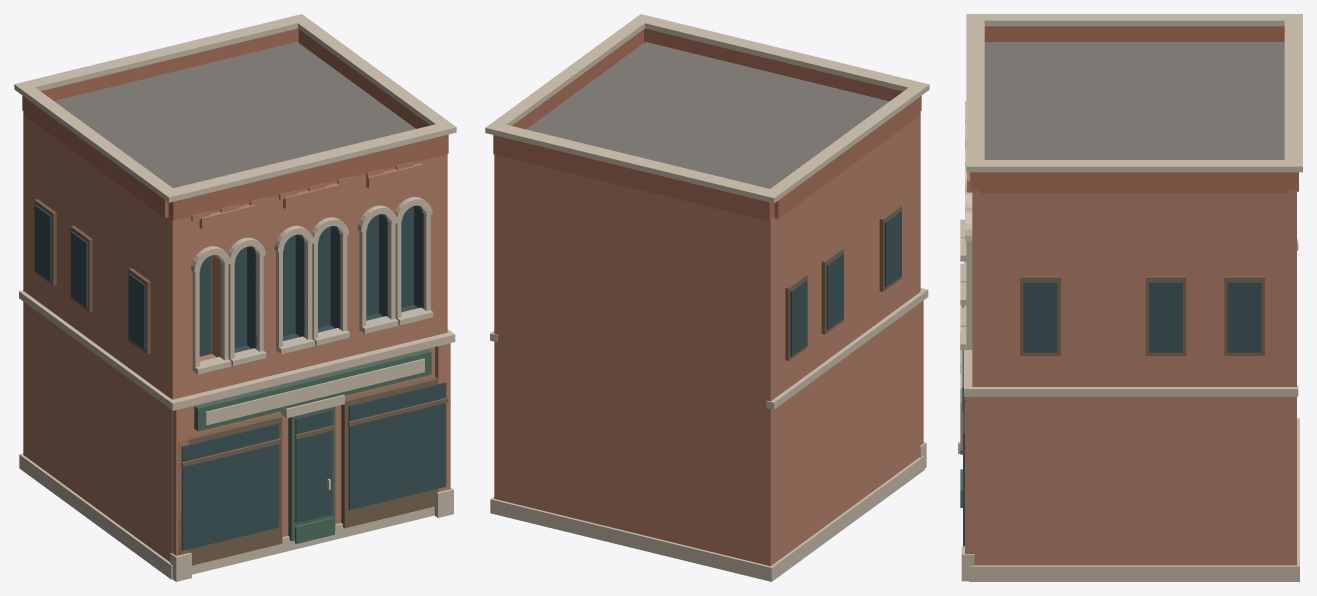
Rendered from building3.glb.
3 views of the same model, side by side, from view 1: azimuth 30°, elevation 25°; view 2: azimuth 150°, elevation 25°; view 3: azimuth 270°, elevation 25° (orthographic). The views are drawn at different scales.
Parts seen in each view (by area): view 1: Building3; view 2: Building3; view 3: Building3.
Part boxes in pixels (x1,y1,x2,y2): Building3: [14, 14, 456, 581]; Building3: [485, 14, 929, 581]; Building3: [958, 14, 1302, 581].
Size of the model in its own units: 6.9 by 8.8 by 6.59.
